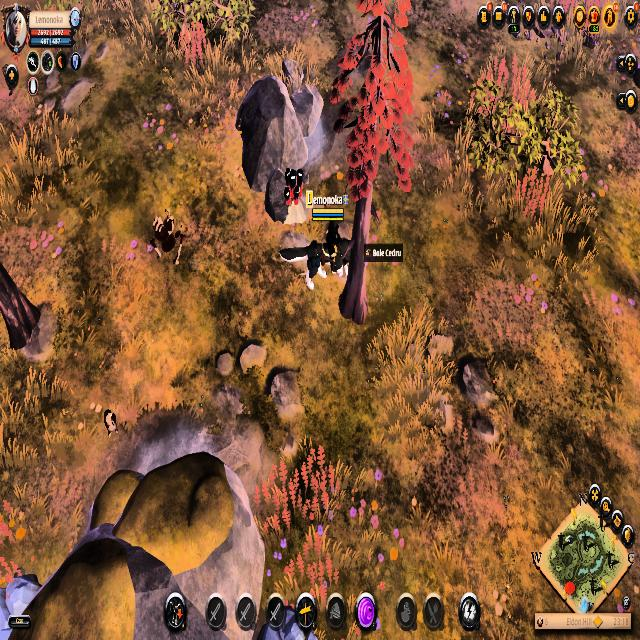ore tier 5: (275, 164, 309, 227)
wood tier 5: (333, 0, 417, 205)
